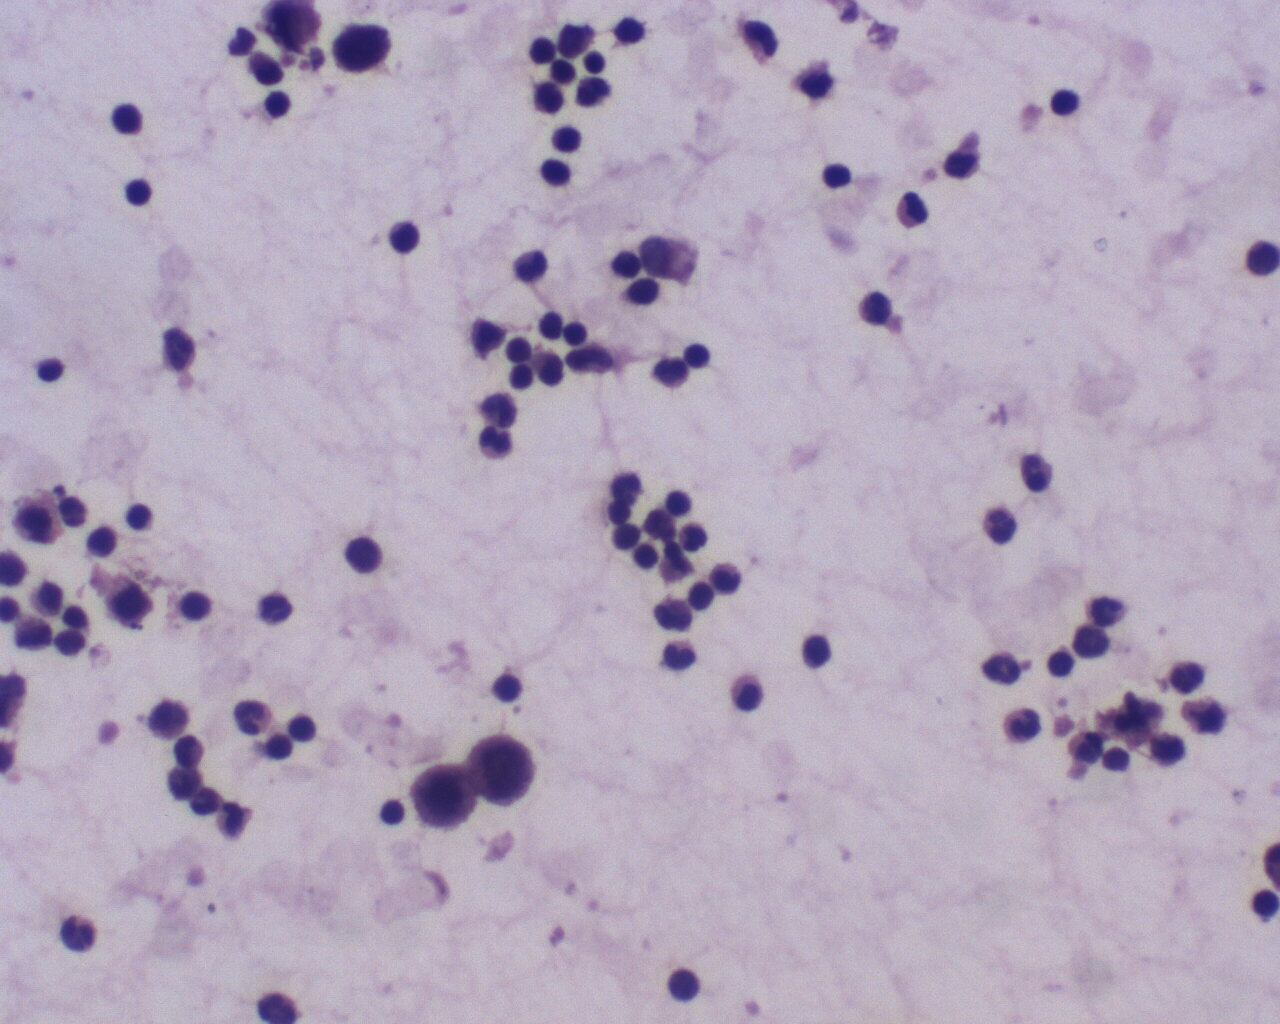ab: (465, 732, 535, 811), (402, 761, 478, 831)
lymph: (377, 218, 432, 261), (335, 534, 390, 577), (487, 667, 531, 711), (794, 631, 843, 670), (108, 96, 148, 140), (661, 967, 703, 1006), (1041, 85, 1084, 123), (177, 586, 216, 626), (821, 156, 860, 194), (83, 521, 121, 558), (121, 171, 158, 209), (604, 245, 639, 281), (539, 154, 577, 188), (503, 333, 538, 369), (54, 628, 89, 664), (683, 339, 716, 374), (265, 89, 296, 121)
neutro: (223, 698, 278, 737), (56, 910, 99, 958), (1001, 704, 1044, 750), (977, 502, 1019, 549), (979, 648, 1024, 686), (1019, 449, 1055, 494), (473, 424, 516, 461), (257, 589, 296, 625)
